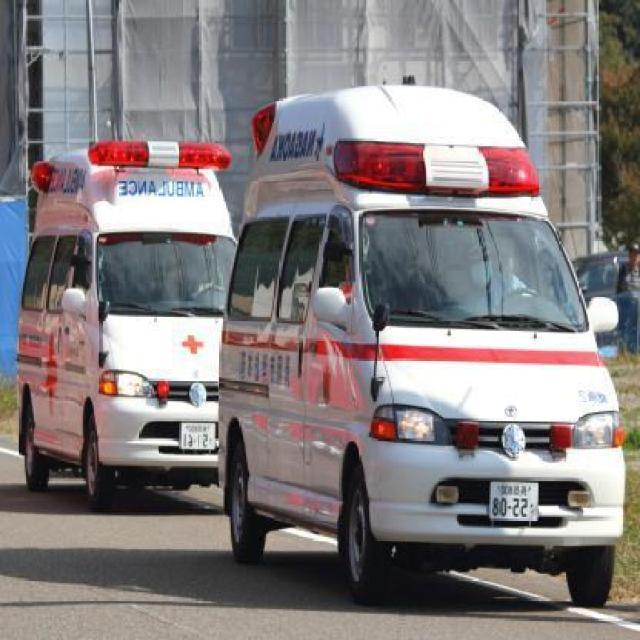emergency: (217, 78, 627, 608), (14, 138, 238, 507)
